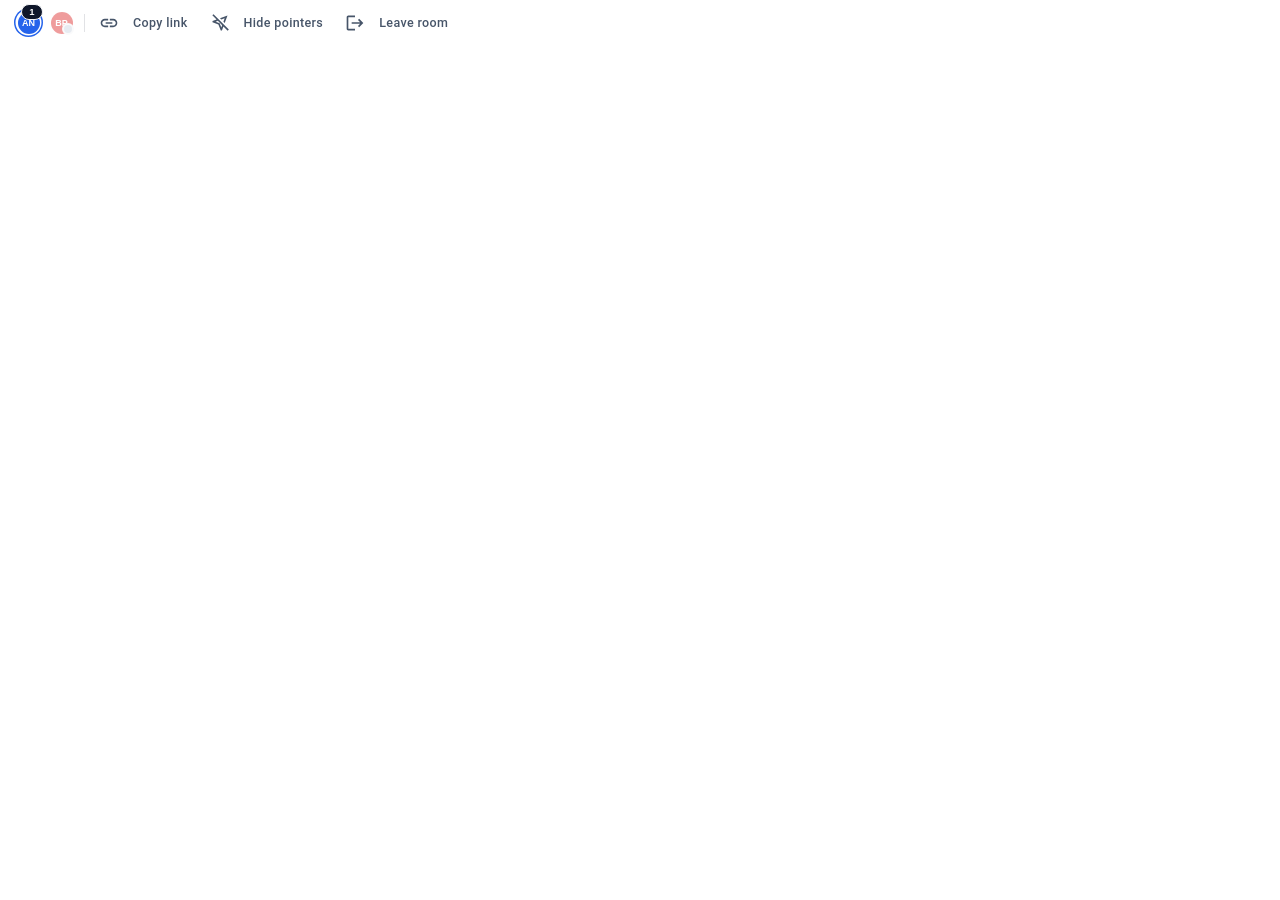
Test case: RoomBar › opens your own card, not a go-to, on a click of your circle
Click the button with aria-label "Anna (you)": click(28, 22) [14,8,43,37]
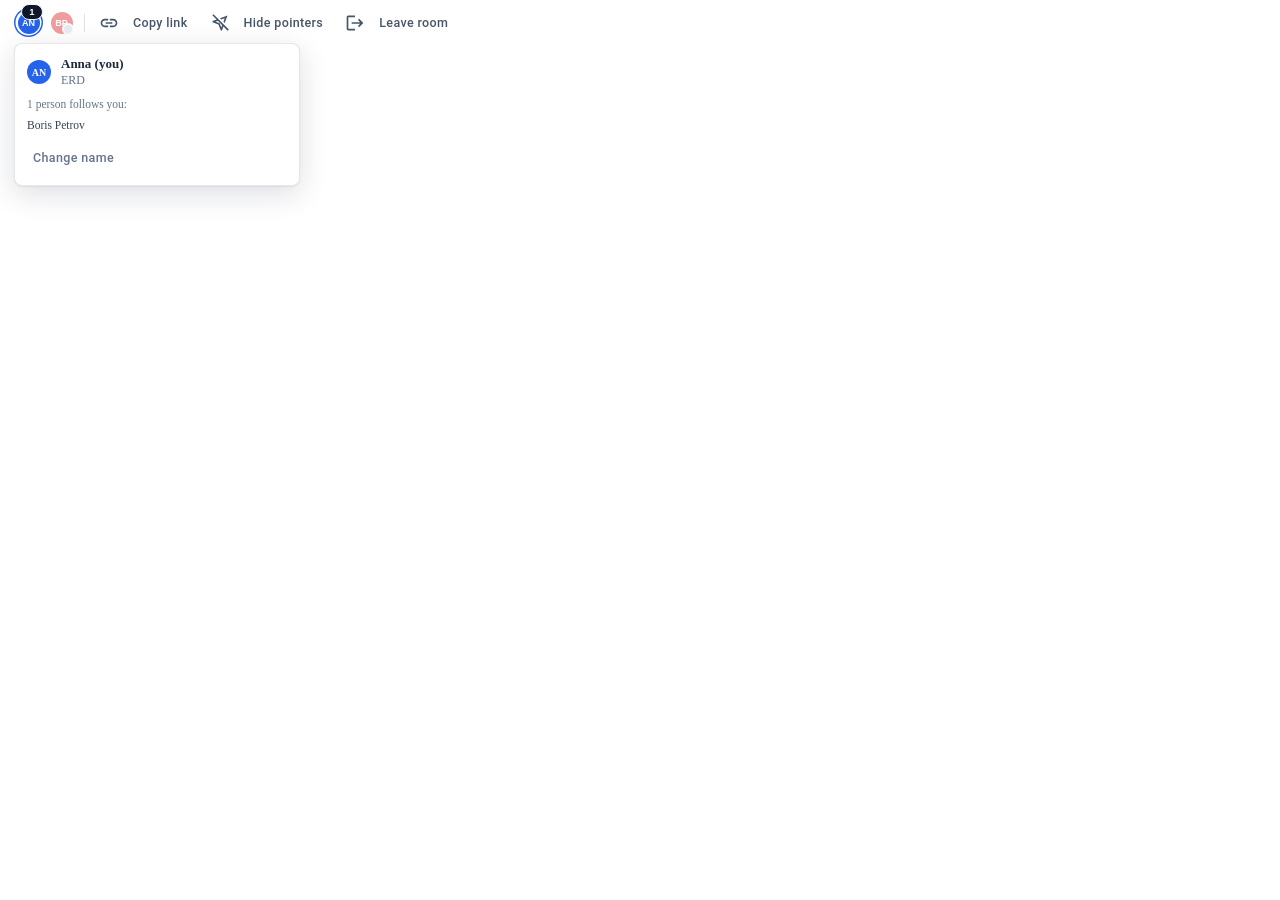
Expected: the button "Change name" is shown, [21,143,126,173]
